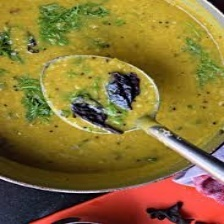dal: (0, 0, 224, 193)
